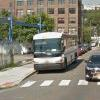Bus: (27, 27, 80, 73)
